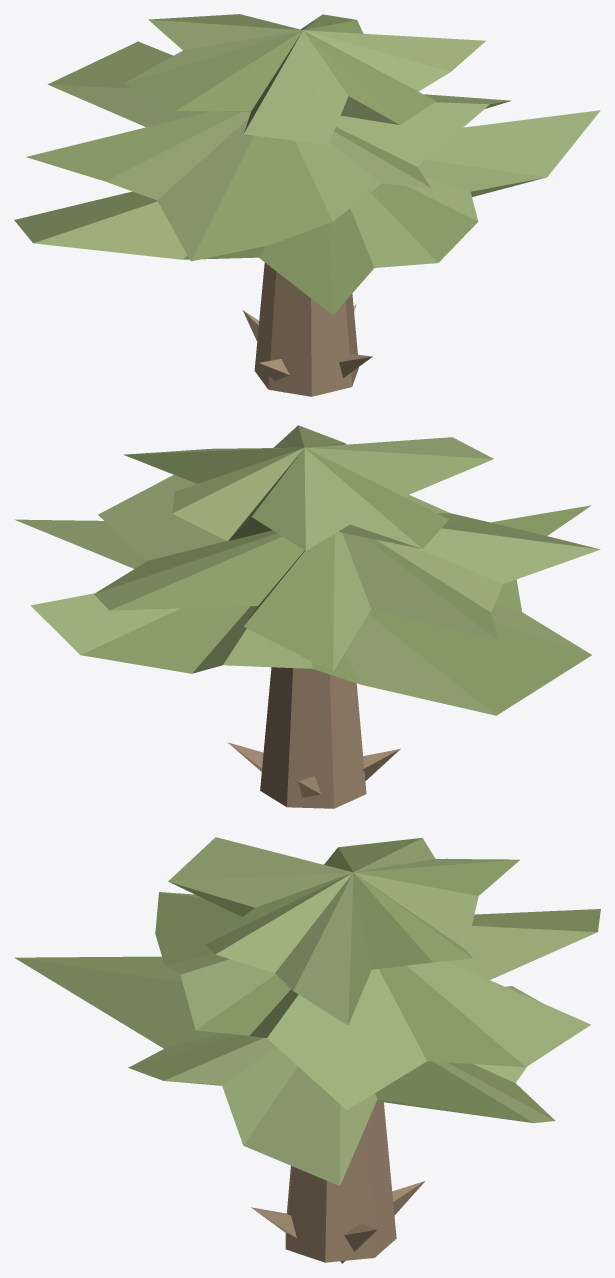
The model's file is tree_oak.glb.
3 renders of one model, top to bottom at view 1: azimuth 30°, elevation 25°; view 2: azimuth 150°, elevation 25°; view 3: azimuth 270°, elevation 25°, orthographic. The views are drawn at different scales.
Parts seen in each view (by area): view 1: tree_oak; view 2: tree_oak; view 3: tree_oak.
Boxes of the visible parts, x1=… form: tree_oak: x1=14, y1=14, x2=600, y2=396; tree_oak: x1=15, y1=425, x2=600, y2=808; tree_oak: x1=14, y1=837, x2=600, y2=1263.
Size of the model in its own units: 6.63 by 3.9 by 5.46.
